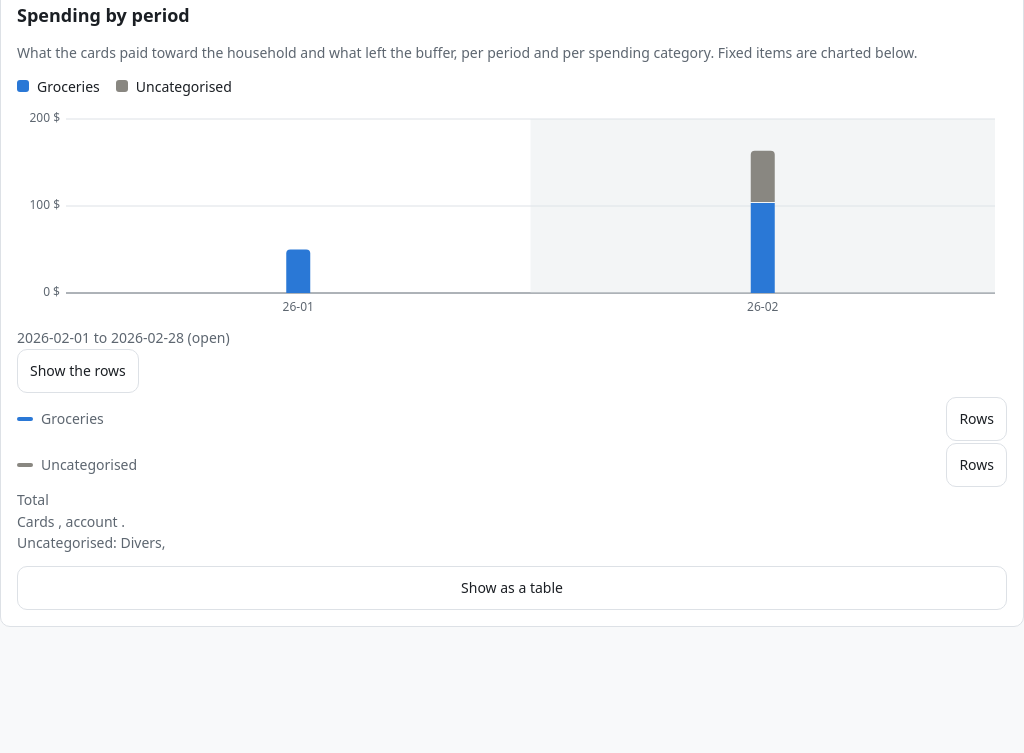
more rows are asked for by offset, and the total does not move
Expected: the slider is shown, x1=17 y1=109 x2=1007 y2=319
Step 1. Click the button "Show the rows" → (78, 371), box x1=17 y1=349 x2=139 y2=393
(page scrolled)
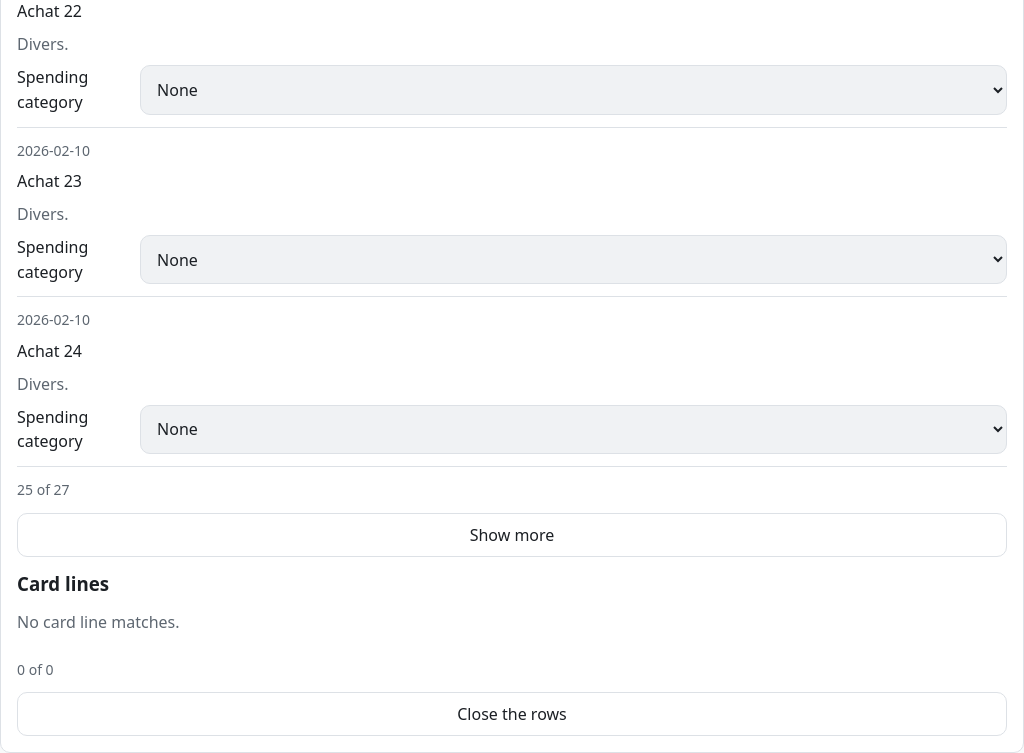
Expected: the text "25 of 27" is shown, x1=17 y1=480 x2=70 y2=499
Step 2. Click the button "Show more" → (512, 535), box x1=17 y1=513 x2=1007 y2=557
(page scrolled)
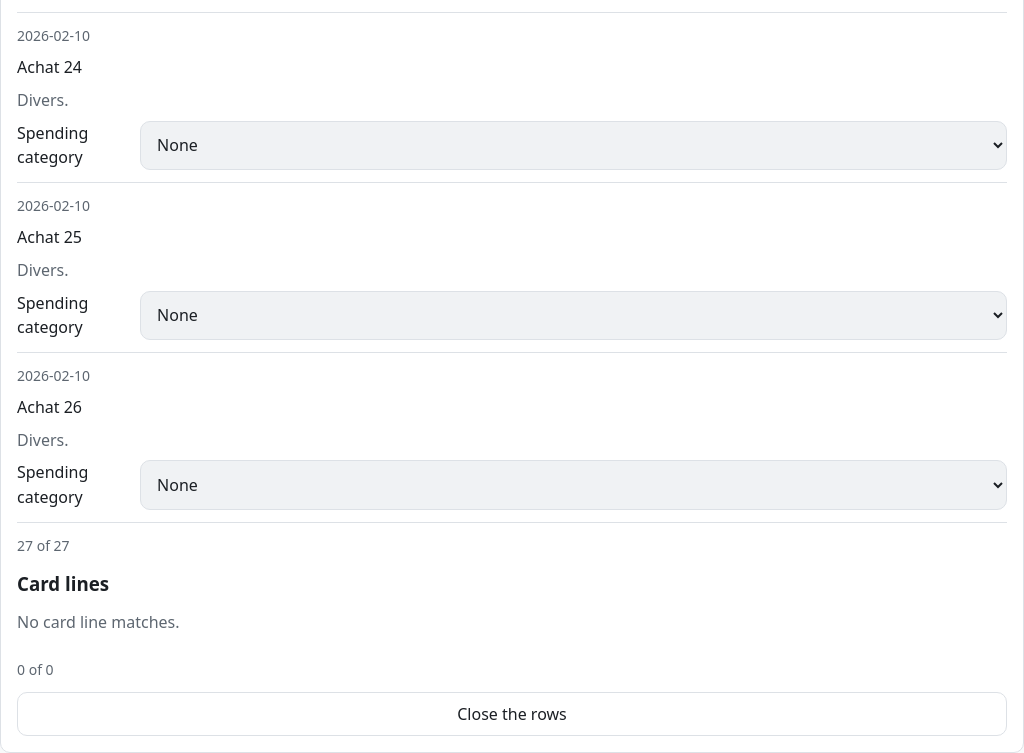
Expected: the text "27 of 27" is shown, x1=17 y1=536 x2=70 y2=555
Expected: the button "Show more" is gone
